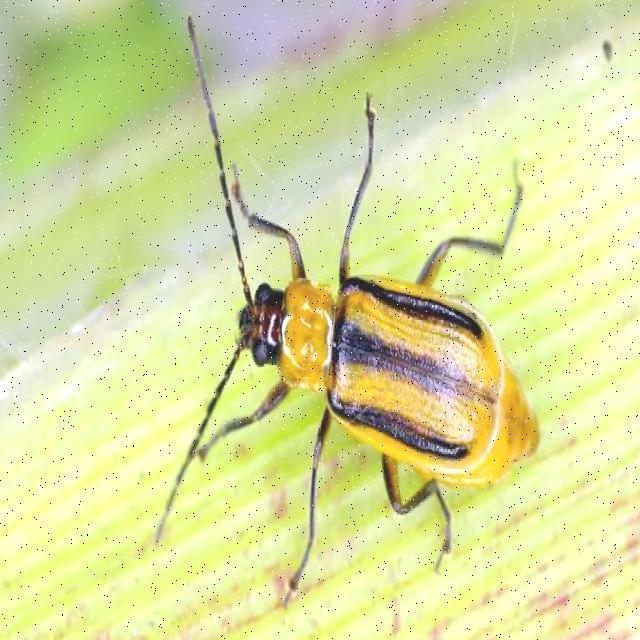trips: (157, 16, 540, 606)
